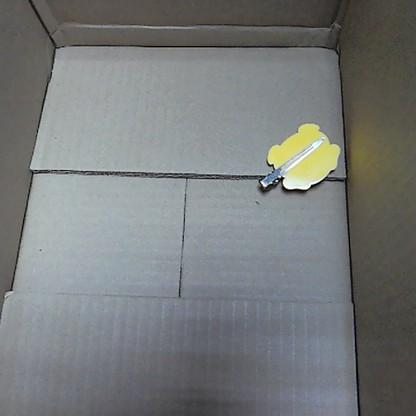dogclip: (257, 119, 341, 196)
